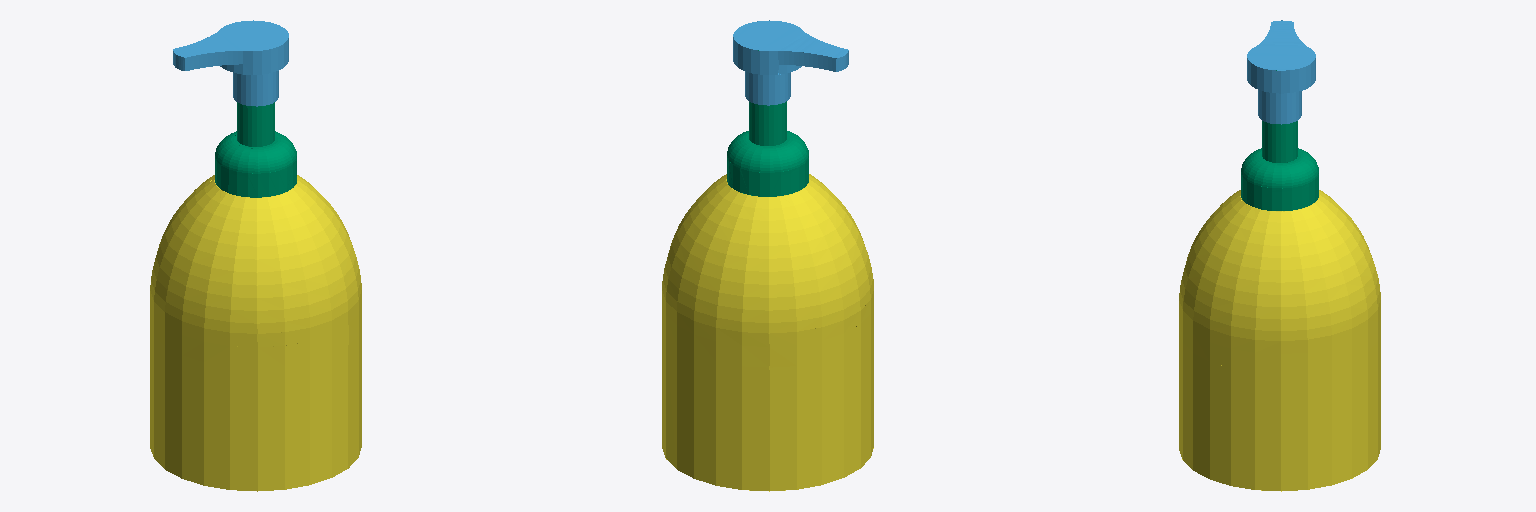
robot.urdf — partnet_7a302fce-e8d2-49a0-a970-9b6b2ef30a8e-0:
<?xml version="1.0" ?>
<robot name="partnet_7a302fce-e8d2-49a0-a970-9b6b2ef30a8e-0">
	<link name="base"/>
	<link name="link_0">
		<visual name="pressing_lid-1">
			<origin xyz="-0.0037270000000000003 0 0.007116999999999998"/>
			<geometry>
				<mesh filename="textured_objs/original_5.obj"/>
			</geometry>
		</visual>
		<visual name="pressing_lid-1">
			<origin xyz="-0.0037270000000000003 0 0.007116999999999998"/>
			<geometry>
				<mesh filename="textured_objs/original_6.obj"/>
			</geometry>
		</visual>
		<collision>
			<origin xyz="-0.0037270000000000003 0 0.007116999999999998"/>
			<geometry>
				<mesh filename="textured_objs/original_5.obj"/>
			</geometry>
		</collision>
		<collision>
			<origin xyz="-0.0037270000000000003 0 0.007116999999999998"/>
			<geometry>
				<mesh filename="textured_objs/original_6.obj"/>
			</geometry>
		</collision>
	</link>
	<joint name="joint_0" type="continuous">
		<origin xyz="0.0 0 0.0"/>
		<axis xyz="0 1 0"/>
		<child link="link_0"/>
		<parent link="link_0_helper"/>
	</joint>
	<link name="link_1">
		<visual name="head-3">
			<origin xyz="-0.0038035000000000013 0 0.007176500000000002"/>
			<geometry>
				<mesh filename="textured_objs/original_3.obj"/>
			</geometry>
		</visual>
		<collision>
			<origin xyz="-0.0038035000000000013 0 0.007176500000000002"/>
			<geometry>
				<mesh filename="textured_objs/original_3.obj"/>
			</geometry>
		</collision>
	</link>
	<joint name="joint_1" type="continuous">
		<origin xyz="0.0 0 0.0"/>
		<axis xyz="0 -1 0"/>
		<child link="link_1"/>
		<parent link="link_1_helper"/>
	</joint>
	<link name="link_2">
		<visual name="base_body-4">
			<origin xyz="0 0 0"/>
			<geometry>
				<mesh filename="textured_objs/original_4.obj"/>
			</geometry>
		</visual>
		<visual name="base_body-4">
			<origin xyz="0 0 0"/>
			<geometry>
				<mesh filename="textured_objs/original_2.obj"/>
			</geometry>
		</visual>
		<collision>
			<origin xyz="0 0 0"/>
			<geometry>
				<mesh filename="textured_objs/original_4.obj"/>
			</geometry>
		</collision>
		<collision>
			<origin xyz="0 0 0"/>
			<geometry>
				<mesh filename="textured_objs/original_2.obj"/>
			</geometry>
		</collision>
	</link>
	<joint name="joint_2" type="fixed">
		<origin rpy="1.570796326794897 0 -1.570796326794897" xyz="0 0 0"/>
		<child link="link_2"/>
		<parent link="base"/>
	</joint>
	<link name="link_0_helper">
		<inertial>
			<origin xyz="0 0 0"/>
			<mass value="1e-6"/>
			<inertia ixx="1e-10" ixy="0" ixz="0" iyy="1e-10" iyz="0" izz="1e-10"/>
		</inertial>
	</link>
	<joint name="joint_3" type="prismatic">
		<origin xyz="-7.650000000000105e-05 0 5.9500000000003994e-05"/>
		<axis xyz="0 -1 0"/>
		<child link="link_0_helper"/>
		<parent link="link_1"/>
		<limit lower="0" upper="0.05"/>
	</joint>
	<link name="link_1_helper">
		<inertial>
			<origin xyz="0 0 0"/>
			<mass value="1e-6"/>
			<inertia ixx="1e-10" ixy="0" ixz="0" iyy="1e-10" iyz="0" izz="1e-10"/>
		</inertial>
	</link>
	<joint name="joint_4" type="prismatic">
		<origin xyz="0.0038035000000000013 0 -0.007176500000000002"/>
		<axis xyz="0 1 0"/>
		<child link="link_1_helper"/>
		<parent link="link_2"/>
		<limit lower="0" upper="0.02"/>
	</joint>
</robot>

--- Render facts (derived) ---
3 views of the same robot in one strip: view 1: azimuth 30°, elevation 25°; view 2: azimuth 150°, elevation 25°; view 3: azimuth 270°, elevation 25° (orthographic).
Model partnet_7a302fce-e8d2-49a0-a970-9b6b2ef30a8e-0 with 6 links and 5 joints (2 continuous, 2 prismatic, 1 fixed), rooted at base, posed all joints at 0.
Visible links, largest first — view 1: link_2, link_0, link_1; view 2: link_2, link_0, link_1; view 3: link_2, link_1, link_0.
Boxes of the visible links, x1,y1,x2,y2 form: link_2: (150, 175, 361, 491); link_0: (173, 20, 288, 106); link_1: (215, 102, 296, 197); link_2: (662, 174, 873, 491); link_0: (733, 20, 848, 105); link_1: (727, 50, 808, 196); link_2: (1179, 190, 1380, 491); link_1: (1241, 70, 1318, 210); link_0: (1247, 20, 1315, 124).
Bounding box of the posed robot: 0.7461 × 0.7462 × 1.6 m (x, y, z).
Meshes: 5 distinct files referenced, 5 mesh visuals loaded (5 OBJ).
